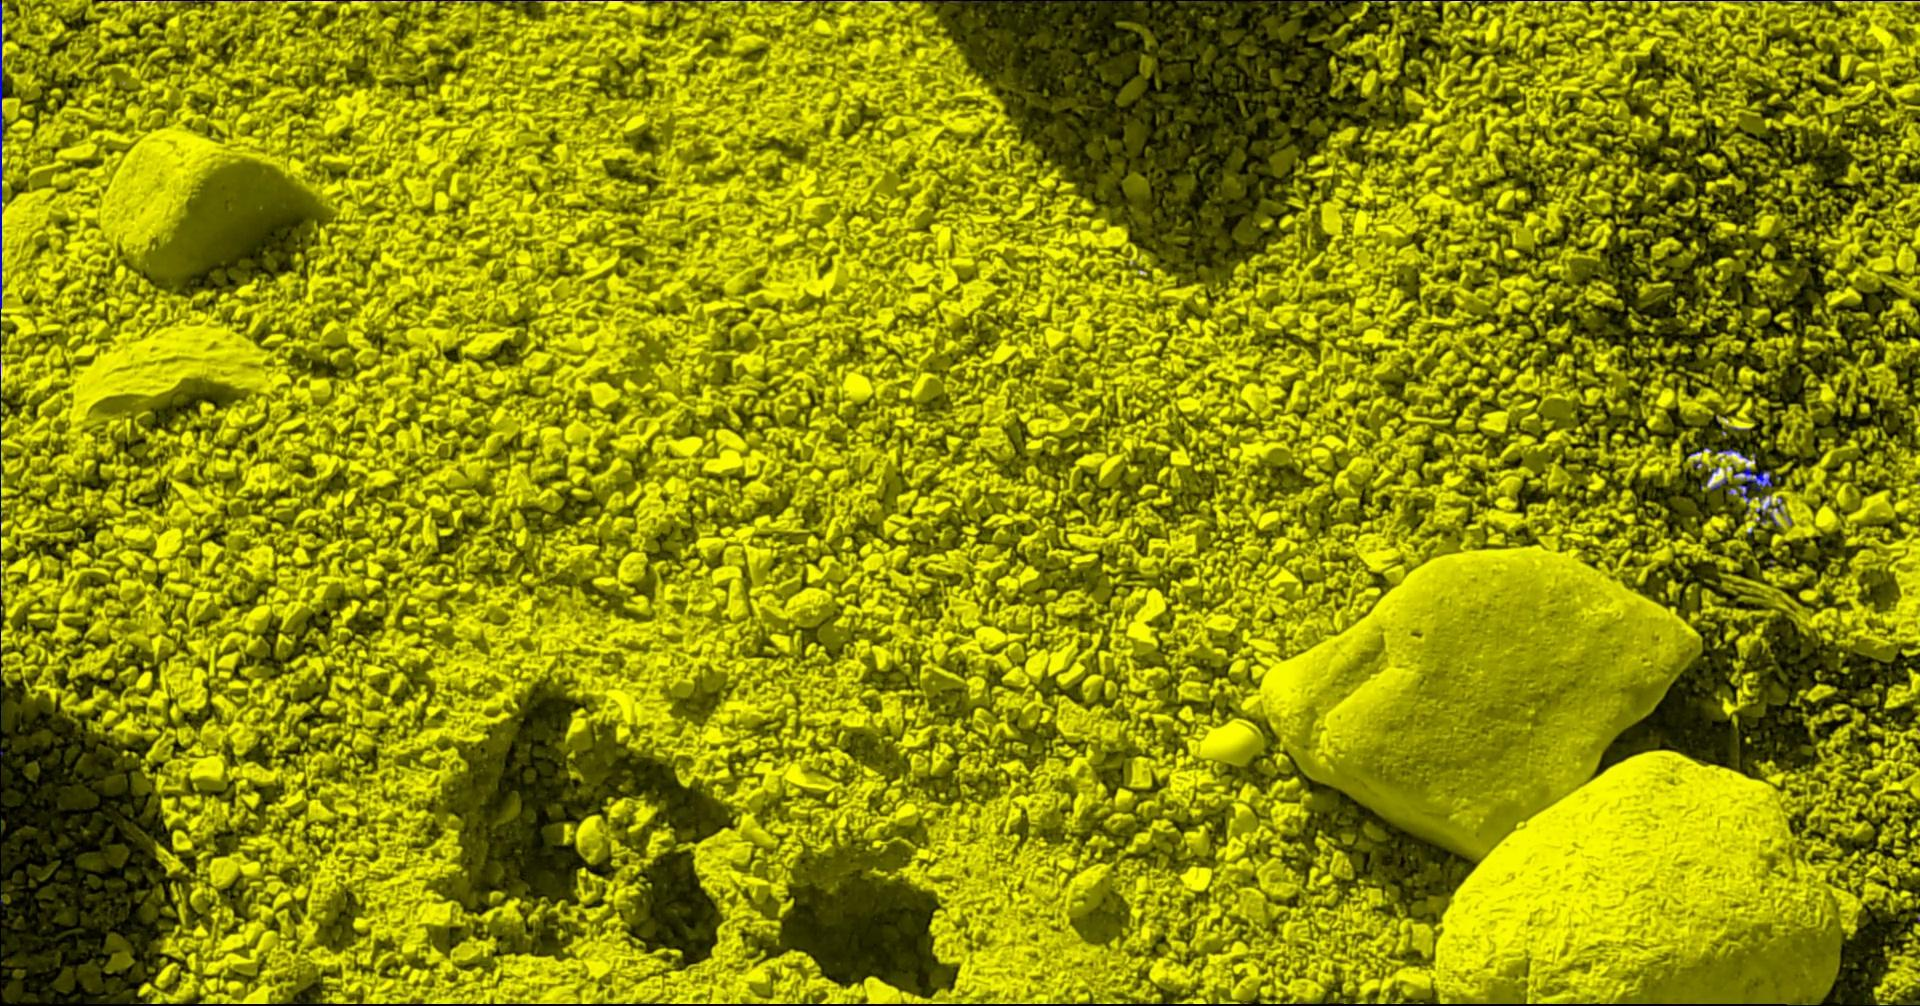ant: (1735, 467, 1774, 503), (1, 0, 4, 309), (1759, 495, 1784, 526)
